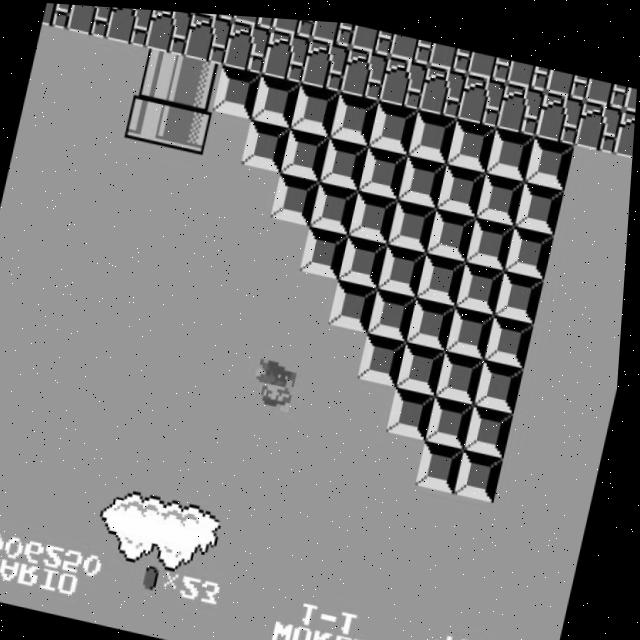11- little_mario: (251, 354, 304, 411)
14- pipe: (134, 45, 185, 100), (173, 53, 224, 108)
15- pipe_head: (125, 89, 176, 144), (164, 98, 215, 153)
17- undestructible_block: (301, 33, 352, 88), (379, 50, 430, 105), (418, 58, 469, 113), (536, 83, 587, 138), (575, 91, 626, 146), (340, 42, 391, 96), (223, 17, 273, 71), (262, 25, 312, 79), (458, 67, 508, 121), (497, 75, 547, 129), (183, 10, 234, 62), (144, 8, 194, 54), (105, 6, 155, 46), (65, 4, 115, 38), (389, 28, 434, 60), (349, 20, 395, 51), (506, 53, 552, 84), (545, 62, 591, 93), (584, 70, 630, 101), (428, 37, 473, 68), (467, 45, 512, 76), (310, 16, 355, 43), (614, 99, 636, 153), (271, 14, 316, 35), (42, 2, 75, 30), (231, 12, 276, 26), (624, 78, 638, 108)
9- hard_block: (252, 70, 303, 125), (302, 221, 353, 276), (321, 131, 372, 186), (341, 229, 392, 284), (369, 95, 420, 150), (361, 327, 412, 382), (391, 380, 442, 435), (400, 335, 451, 390), (438, 156, 489, 211), (498, 262, 549, 317), (526, 128, 577, 183), (242, 115, 293, 169), (272, 168, 323, 222), (291, 79, 342, 133), (330, 87, 381, 141), (360, 140, 411, 194), (380, 238, 431, 292), (399, 148, 450, 202), (430, 389, 481, 443), (468, 210, 519, 264), (477, 165, 528, 219), (487, 120, 538, 174), (459, 442, 510, 496), (469, 397, 520, 451), (488, 308, 539, 362), (282, 123, 332, 178), (409, 103, 459, 158), (440, 344, 490, 399), (459, 254, 509, 309), (479, 352, 529, 407), (517, 173, 567, 228), (311, 177, 362, 230), (331, 275, 382, 328), (429, 202, 480, 255), (420, 434, 471, 487), (449, 300, 500, 353), (507, 219, 558, 272), (213, 62, 263, 116), (371, 283, 421, 337), (410, 291, 460, 345), (420, 246, 470, 300), (448, 112, 498, 166), (351, 185, 401, 238), (390, 194, 440, 247)
